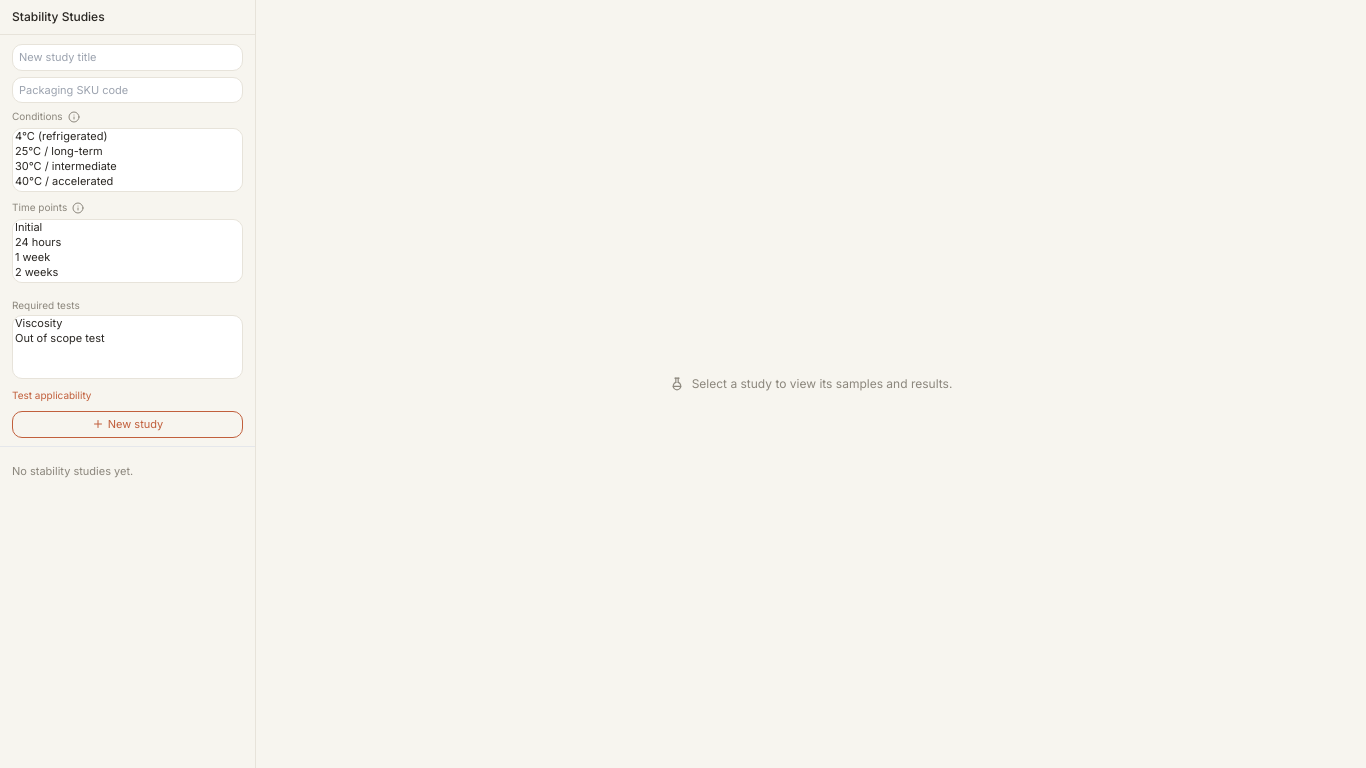
Test case: StabilityPanel — applicability explorer › wires the same applicability engine into Stability's Included/Excluded explorer
The width and height of the screenshot is (1366, 768).
Check: the list item "No stability studies yet." is shown, box [12,464,133,478]
Type "Shampoo stability" into the field with placeholder "New study title". click: (128, 57)
box: [12,44,243,70]
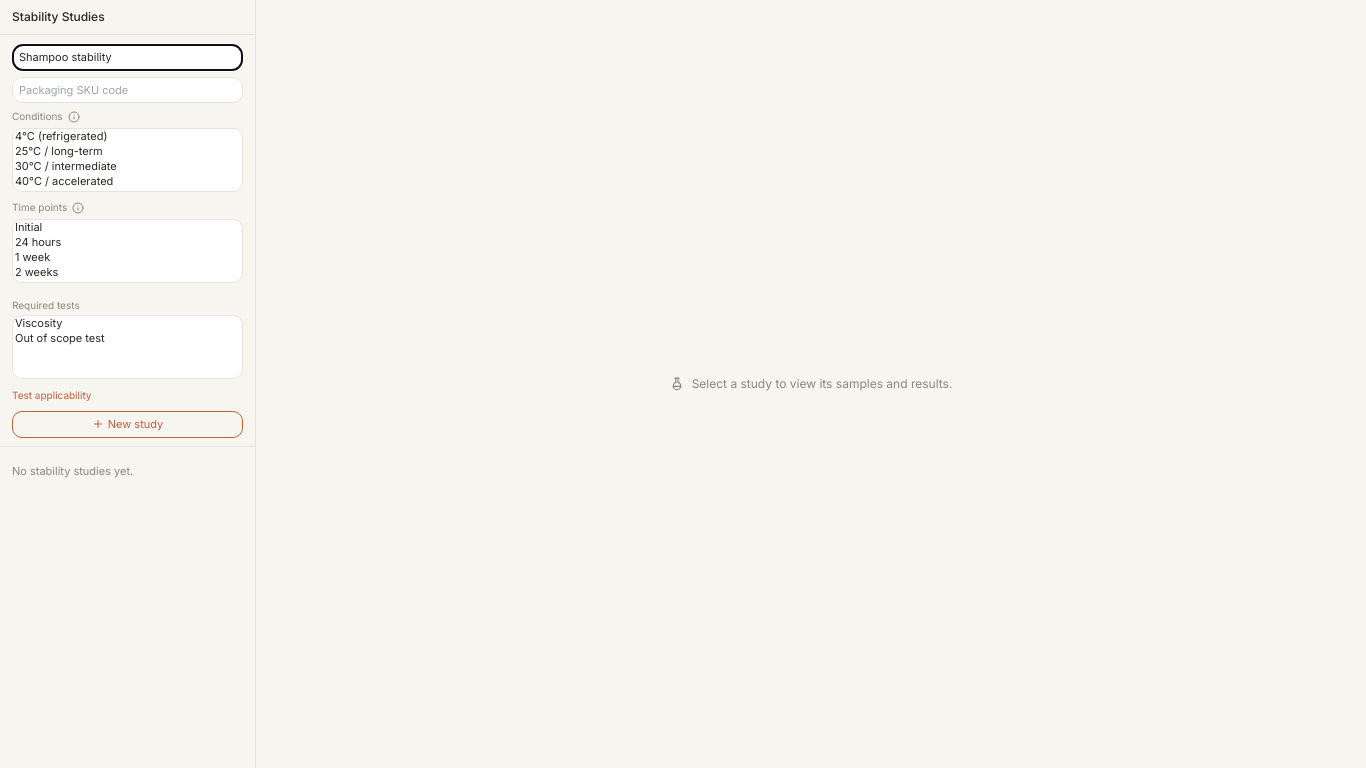
Type "sku-1" into the field with placeholder "Packaging SKU code". click: (128, 90)
box: [12,76,243,103]
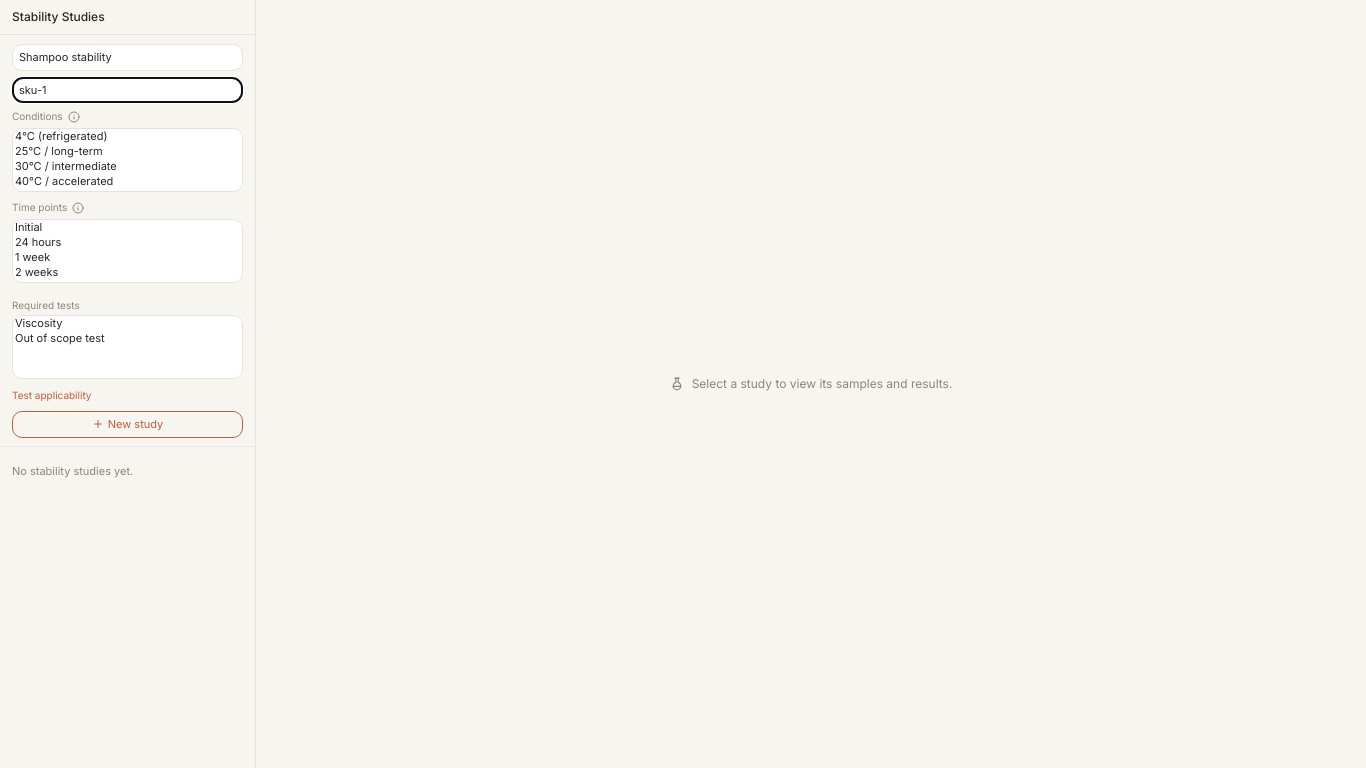
Select "25°C / long-term" in the dropdown below "Conditions". click: (128, 160)
box: [12,128,243,192]
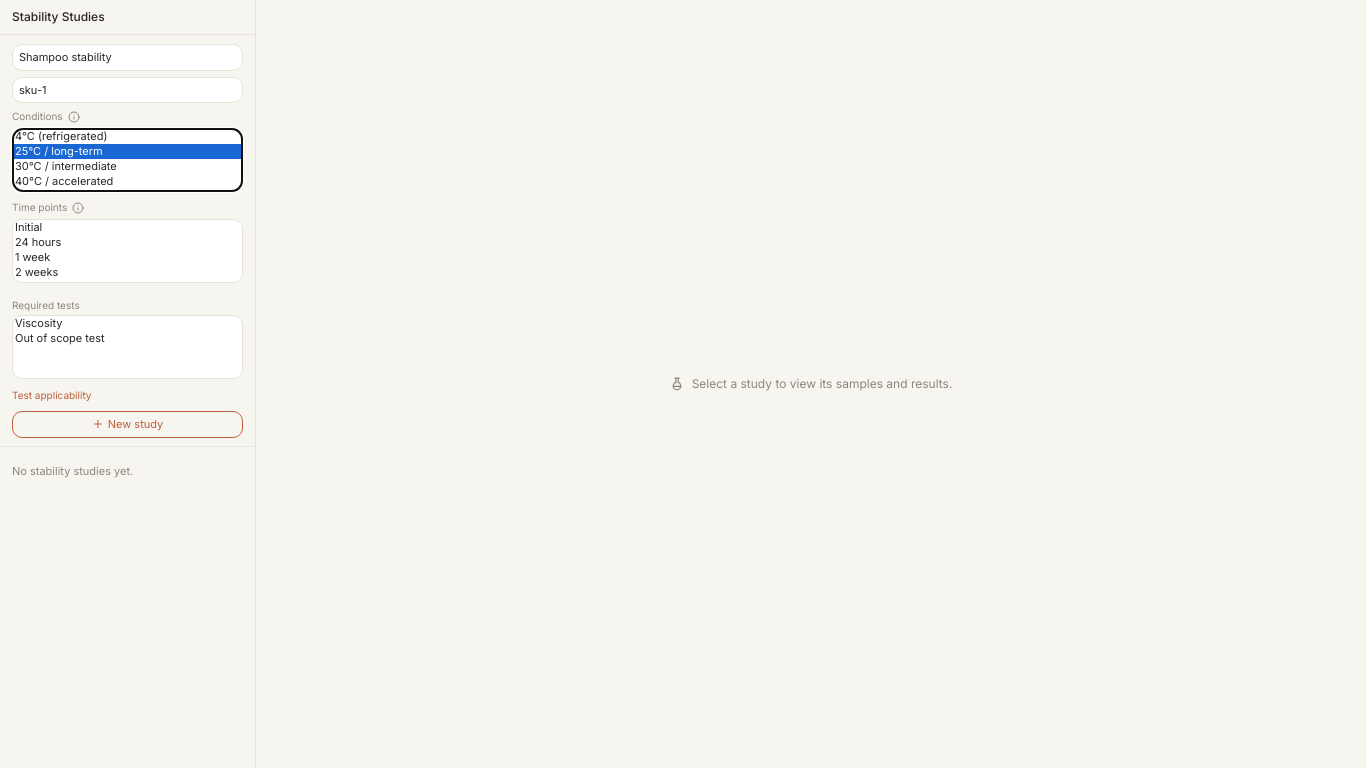
Select "Initial" in the dropdown below "Time points". click: (128, 251)
box: [12,219,243,283]
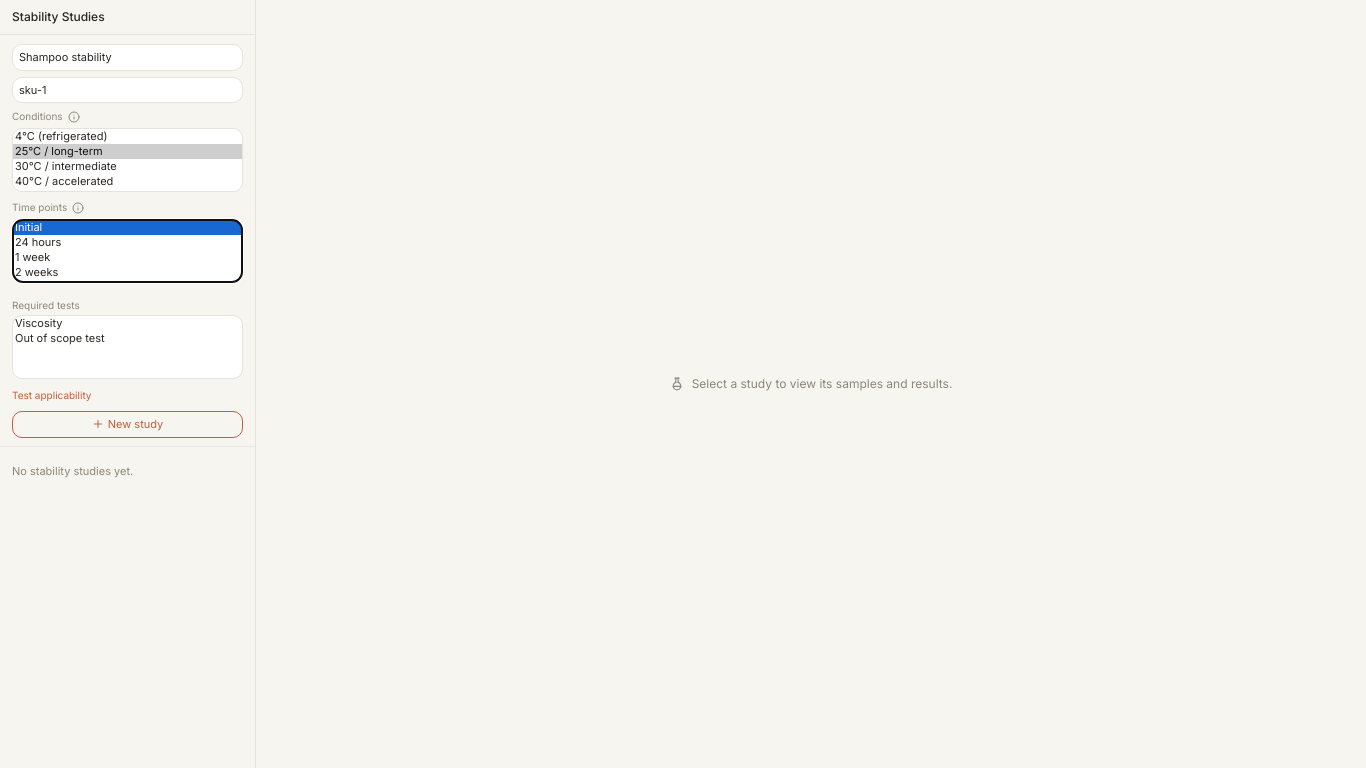
Click the button "Test applicability". click: (52, 396)
box: [12,388,92,403]
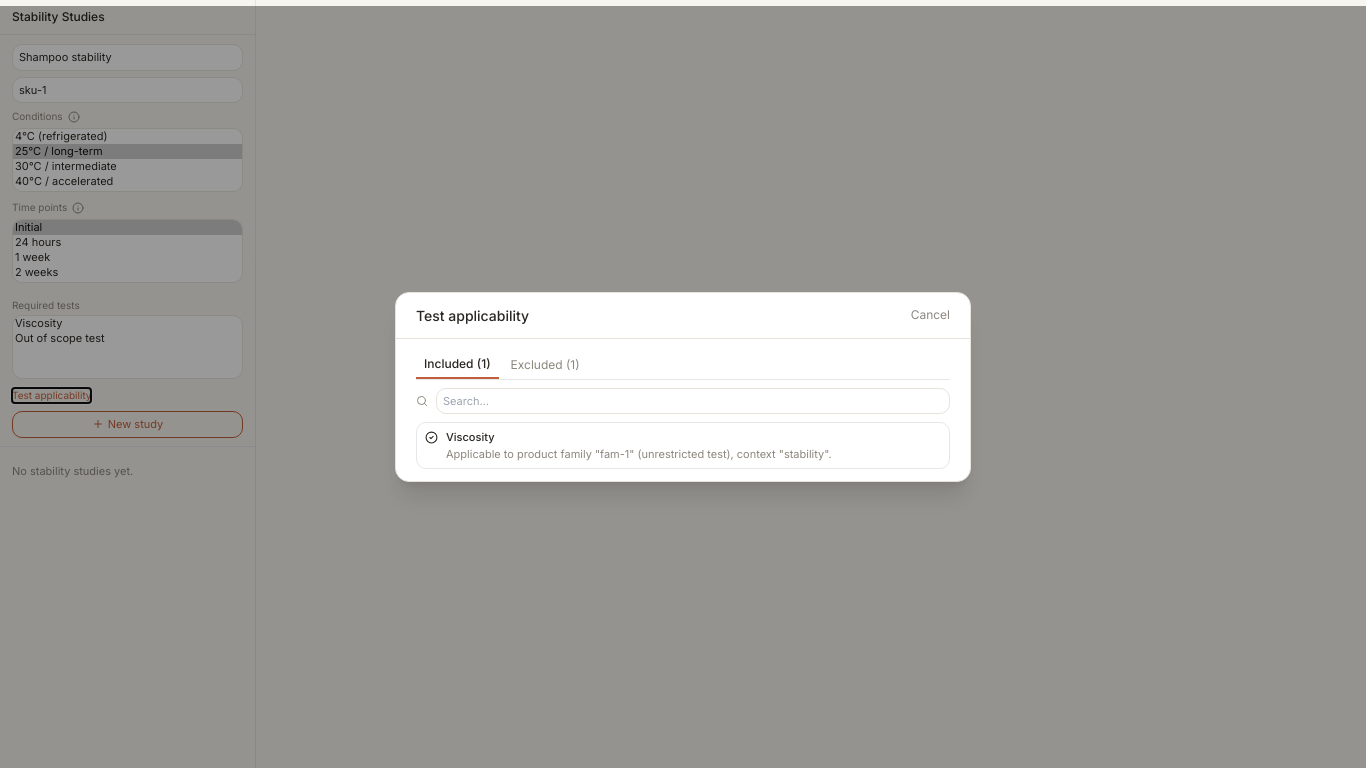
Check: the button "Included (1)" is shown, box [416,351,499,379]
Check: the button "Excluded (1)" is shown, box [503,351,588,379]
